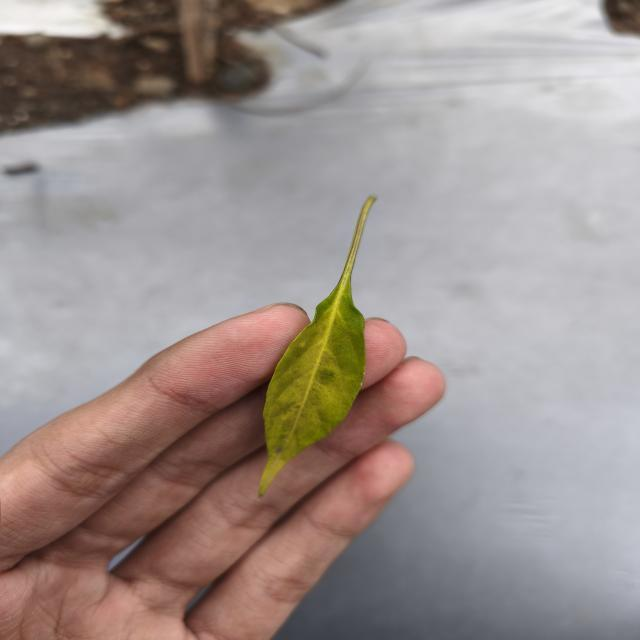Virus Kuning: (258, 288, 369, 498)
